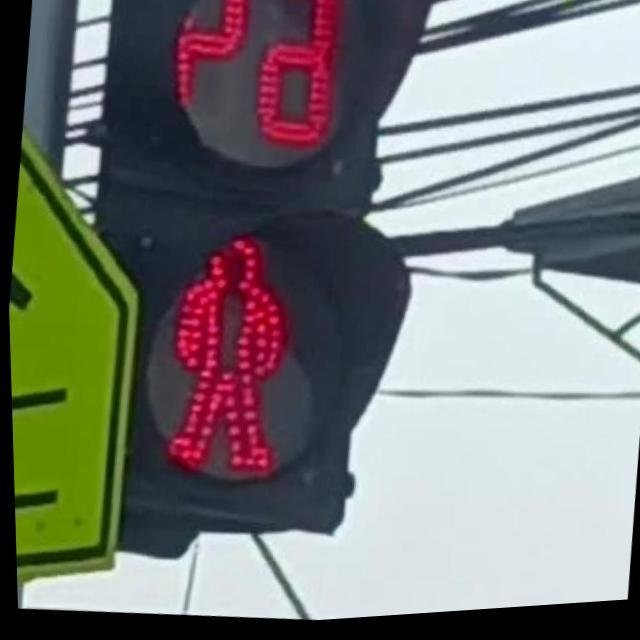red_light: (139, 218, 322, 503)
